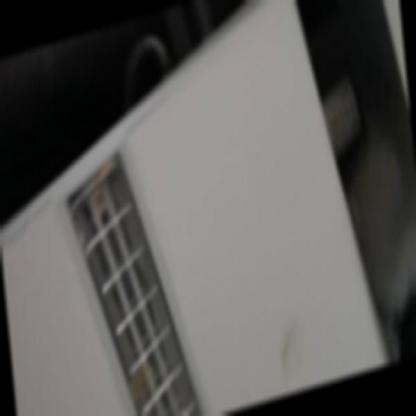light_off: (47, 107, 217, 415)
